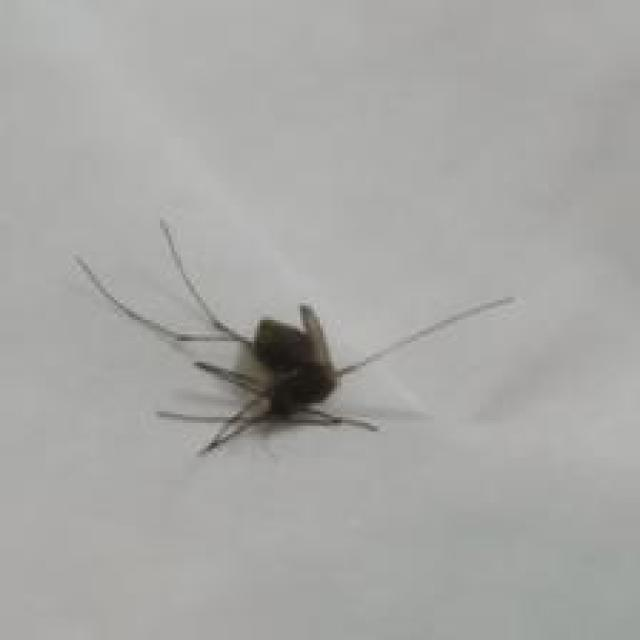Culex: (73, 217, 516, 460)
